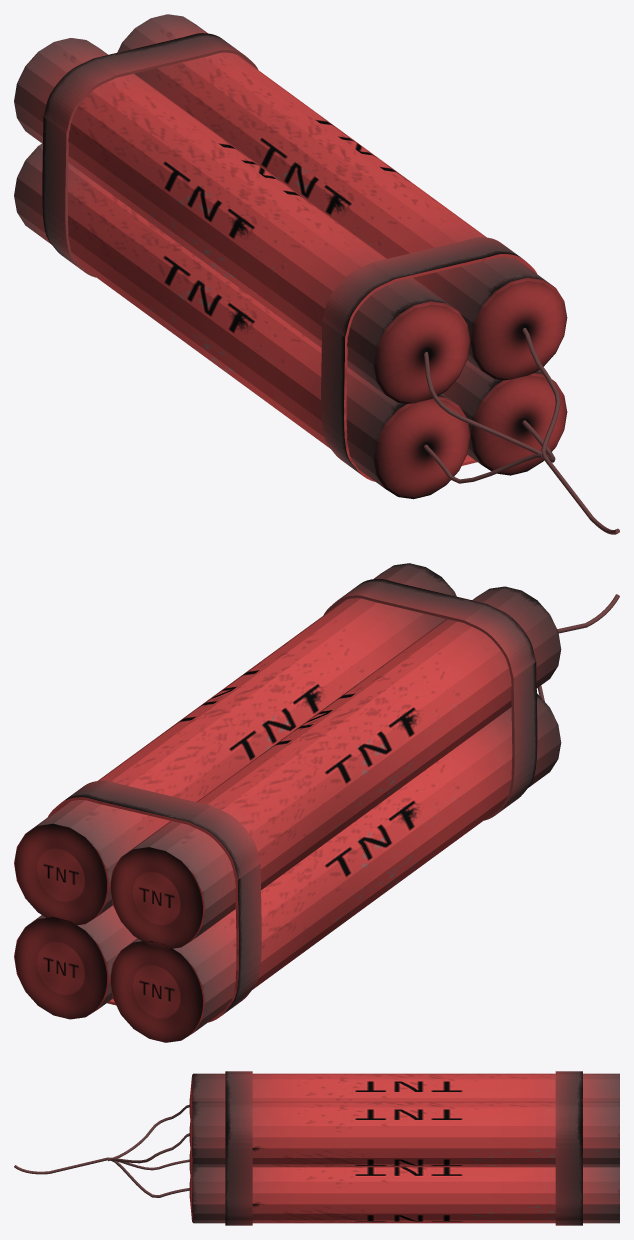
The model's file is bomb.fbx.
3 views of the same model, one above another, from view 1: azimuth 30°, elevation 25°; view 2: azimuth 150°, elevation 25°; view 3: azimuth 270°, elevation 25° (orthographic). The views are drawn at different scales.
Visible parts, largest first — view 1: TNT Dinami; view 2: TNT Dinami; view 3: TNT Dinami.
Boxes of the visible parts, x1,y1,x2,y2 form: TNT Dinami: [14, 14, 619, 534]; TNT Dinami: [14, 563, 619, 1042]; TNT Dinami: [14, 1071, 619, 1225].
Bounding box in the file's own units: 0.2778 × 0.2713 × 1.24.
1 material, 1 textured.
